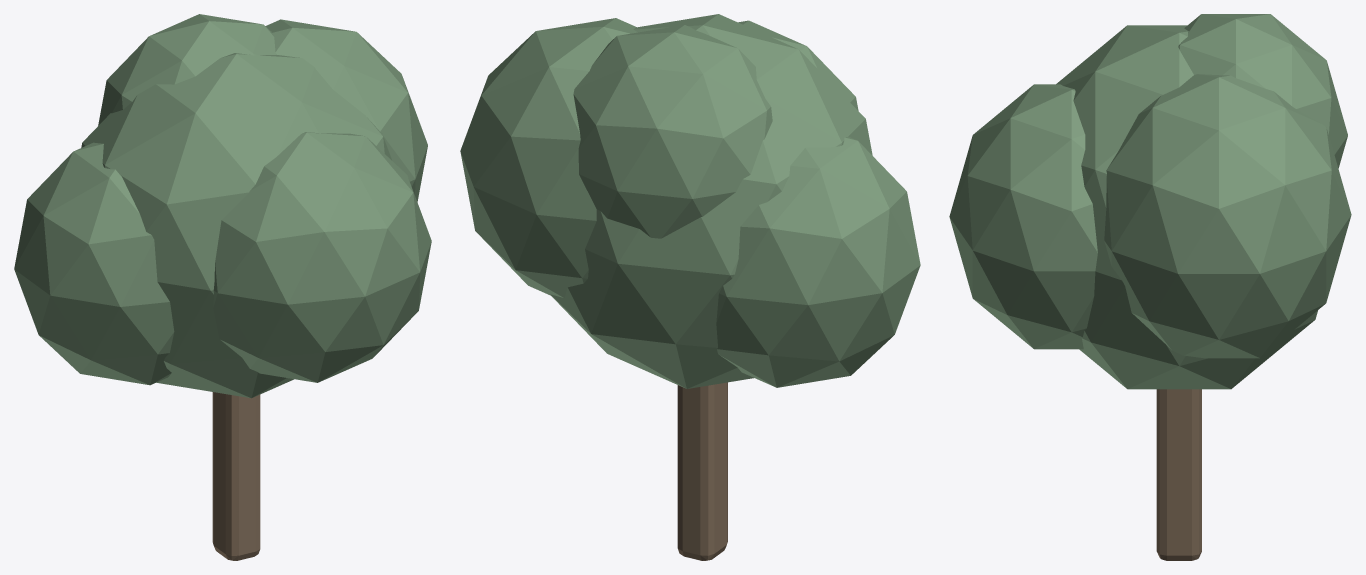
The model's file is SM_CanalTree.fbx.
The picture shows the model from 3 angles, left to right: view 1: azimuth 30°, elevation 25°; view 2: azimuth 150°, elevation 25°; view 3: azimuth 270°, elevation 25°; orthographic projection. The views are drawn at different scales.
Visible parts, largest first — view 1: SM_CanalTree; view 2: SM_CanalTree; view 3: SM_CanalTree.
Boxes of the visible parts, x1,y1,x2,y2 form: SM_CanalTree: (14,14,431,560); SM_CanalTree: (460,14,920,560); SM_CanalTree: (949,14,1351,560).
Bounding box in the file's own units: 413 × 355 × 523.
